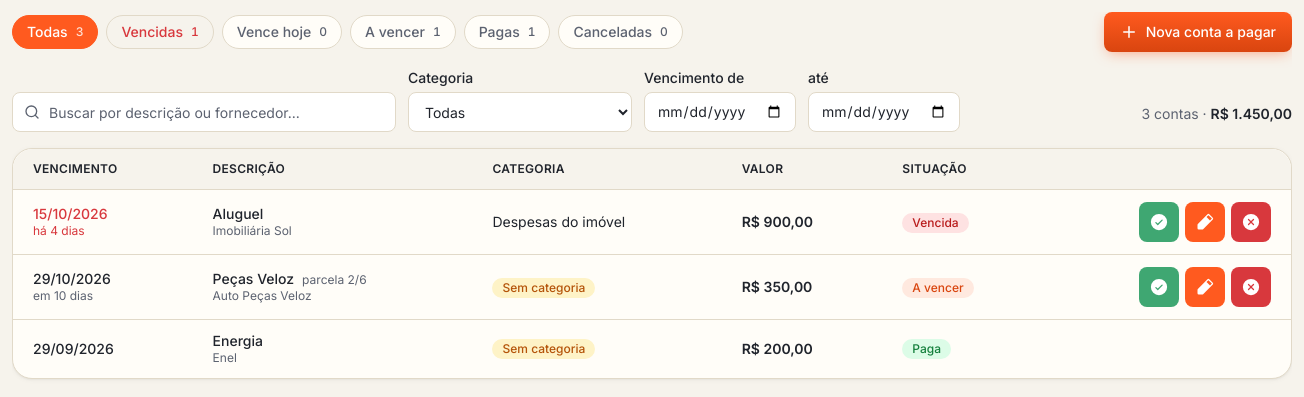
Scenario: ContasTab › narrows to the chosen situation and sums only what is listed
Click the button "Vencidas 1".
click(160, 32)  # box x1=106 y1=15 x2=214 y2=49
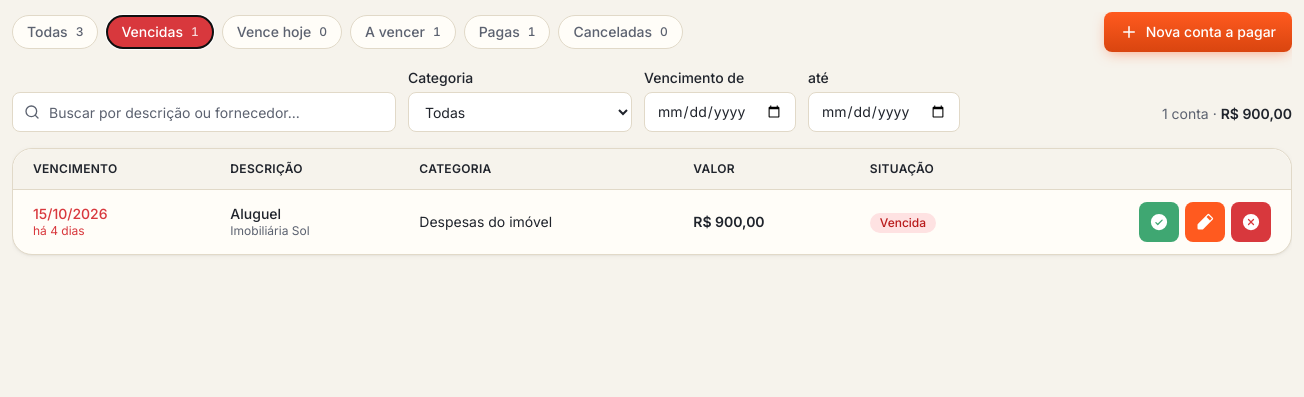
Expected: the text "Aluguel" is shown, x1=230 y1=205 x2=281 y2=222
Expected: the text "Peças Veloz" is gone
Expected: the text "1 conta · R$ 900,00" is shown, x1=1162 y1=104 x2=1292 y2=132
